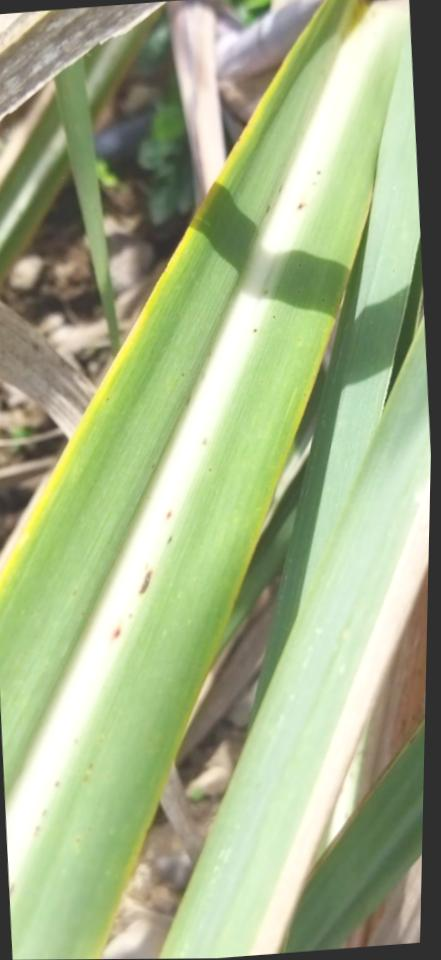RedRot: (111, 627, 120, 639), (164, 510, 173, 520)
Rust: (0, 0, 327, 590), (248, 473, 430, 955), (136, 568, 154, 596), (31, 824, 40, 837), (8, 882, 15, 897), (263, 203, 271, 215), (165, 534, 173, 546), (276, 182, 283, 194), (184, 394, 191, 406), (294, 202, 303, 211), (81, 773, 88, 784), (52, 779, 59, 788), (86, 762, 93, 770), (201, 437, 207, 446), (72, 737, 78, 745), (41, 808, 47, 816), (97, 738, 103, 745), (74, 837, 81, 843), (315, 170, 321, 176), (262, 289, 268, 295), (86, 826, 92, 832), (150, 463, 155, 470), (71, 589, 76, 596), (127, 612, 132, 619), (295, 289, 300, 295), (252, 327, 257, 333), (320, 298, 325, 303), (79, 611, 84, 616), (310, 181, 316, 185), (297, 263, 301, 268), (271, 315, 275, 320), (105, 397, 109, 402), (166, 381, 170, 386), (208, 467, 211, 473), (180, 373, 184, 377), (302, 393, 306, 397), (260, 380, 264, 384), (297, 337, 301, 341)
